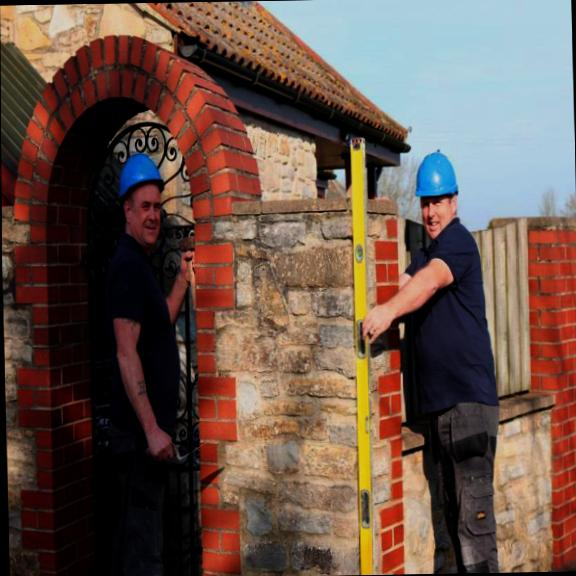no_safety_vest: (399, 224, 500, 436), (103, 232, 184, 463)
